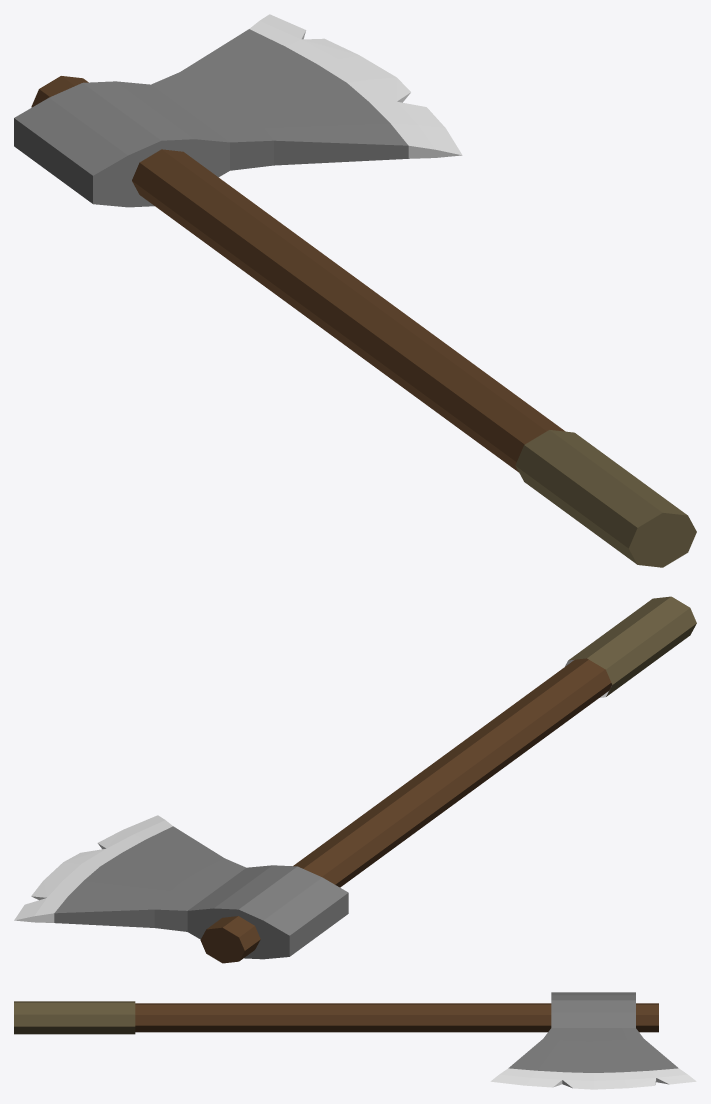
The model's file is axe.fbx.
3 renders of one model, top to bottom at view 1: azimuth 30°, elevation 25°; view 2: azimuth 150°, elevation 25°; view 3: azimuth 270°, elevation 25°, orthographic. The views are drawn at different scales.
Visible parts, largest first — view 1: 평면; view 2: 평면; view 3: 평면.
Part boxes in pixels (box(x1,y1,x2,y2)): 평면: box(14, 14, 696, 567); 평면: box(14, 596, 696, 963); 평면: box(14, 992, 696, 1089).
Bounding box in the file's own units: 501 × 91.09 × 1612.
